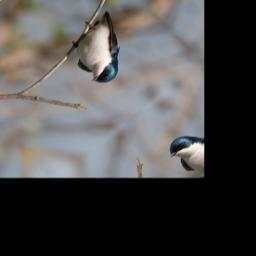Swallow: (54, 6, 151, 89)
